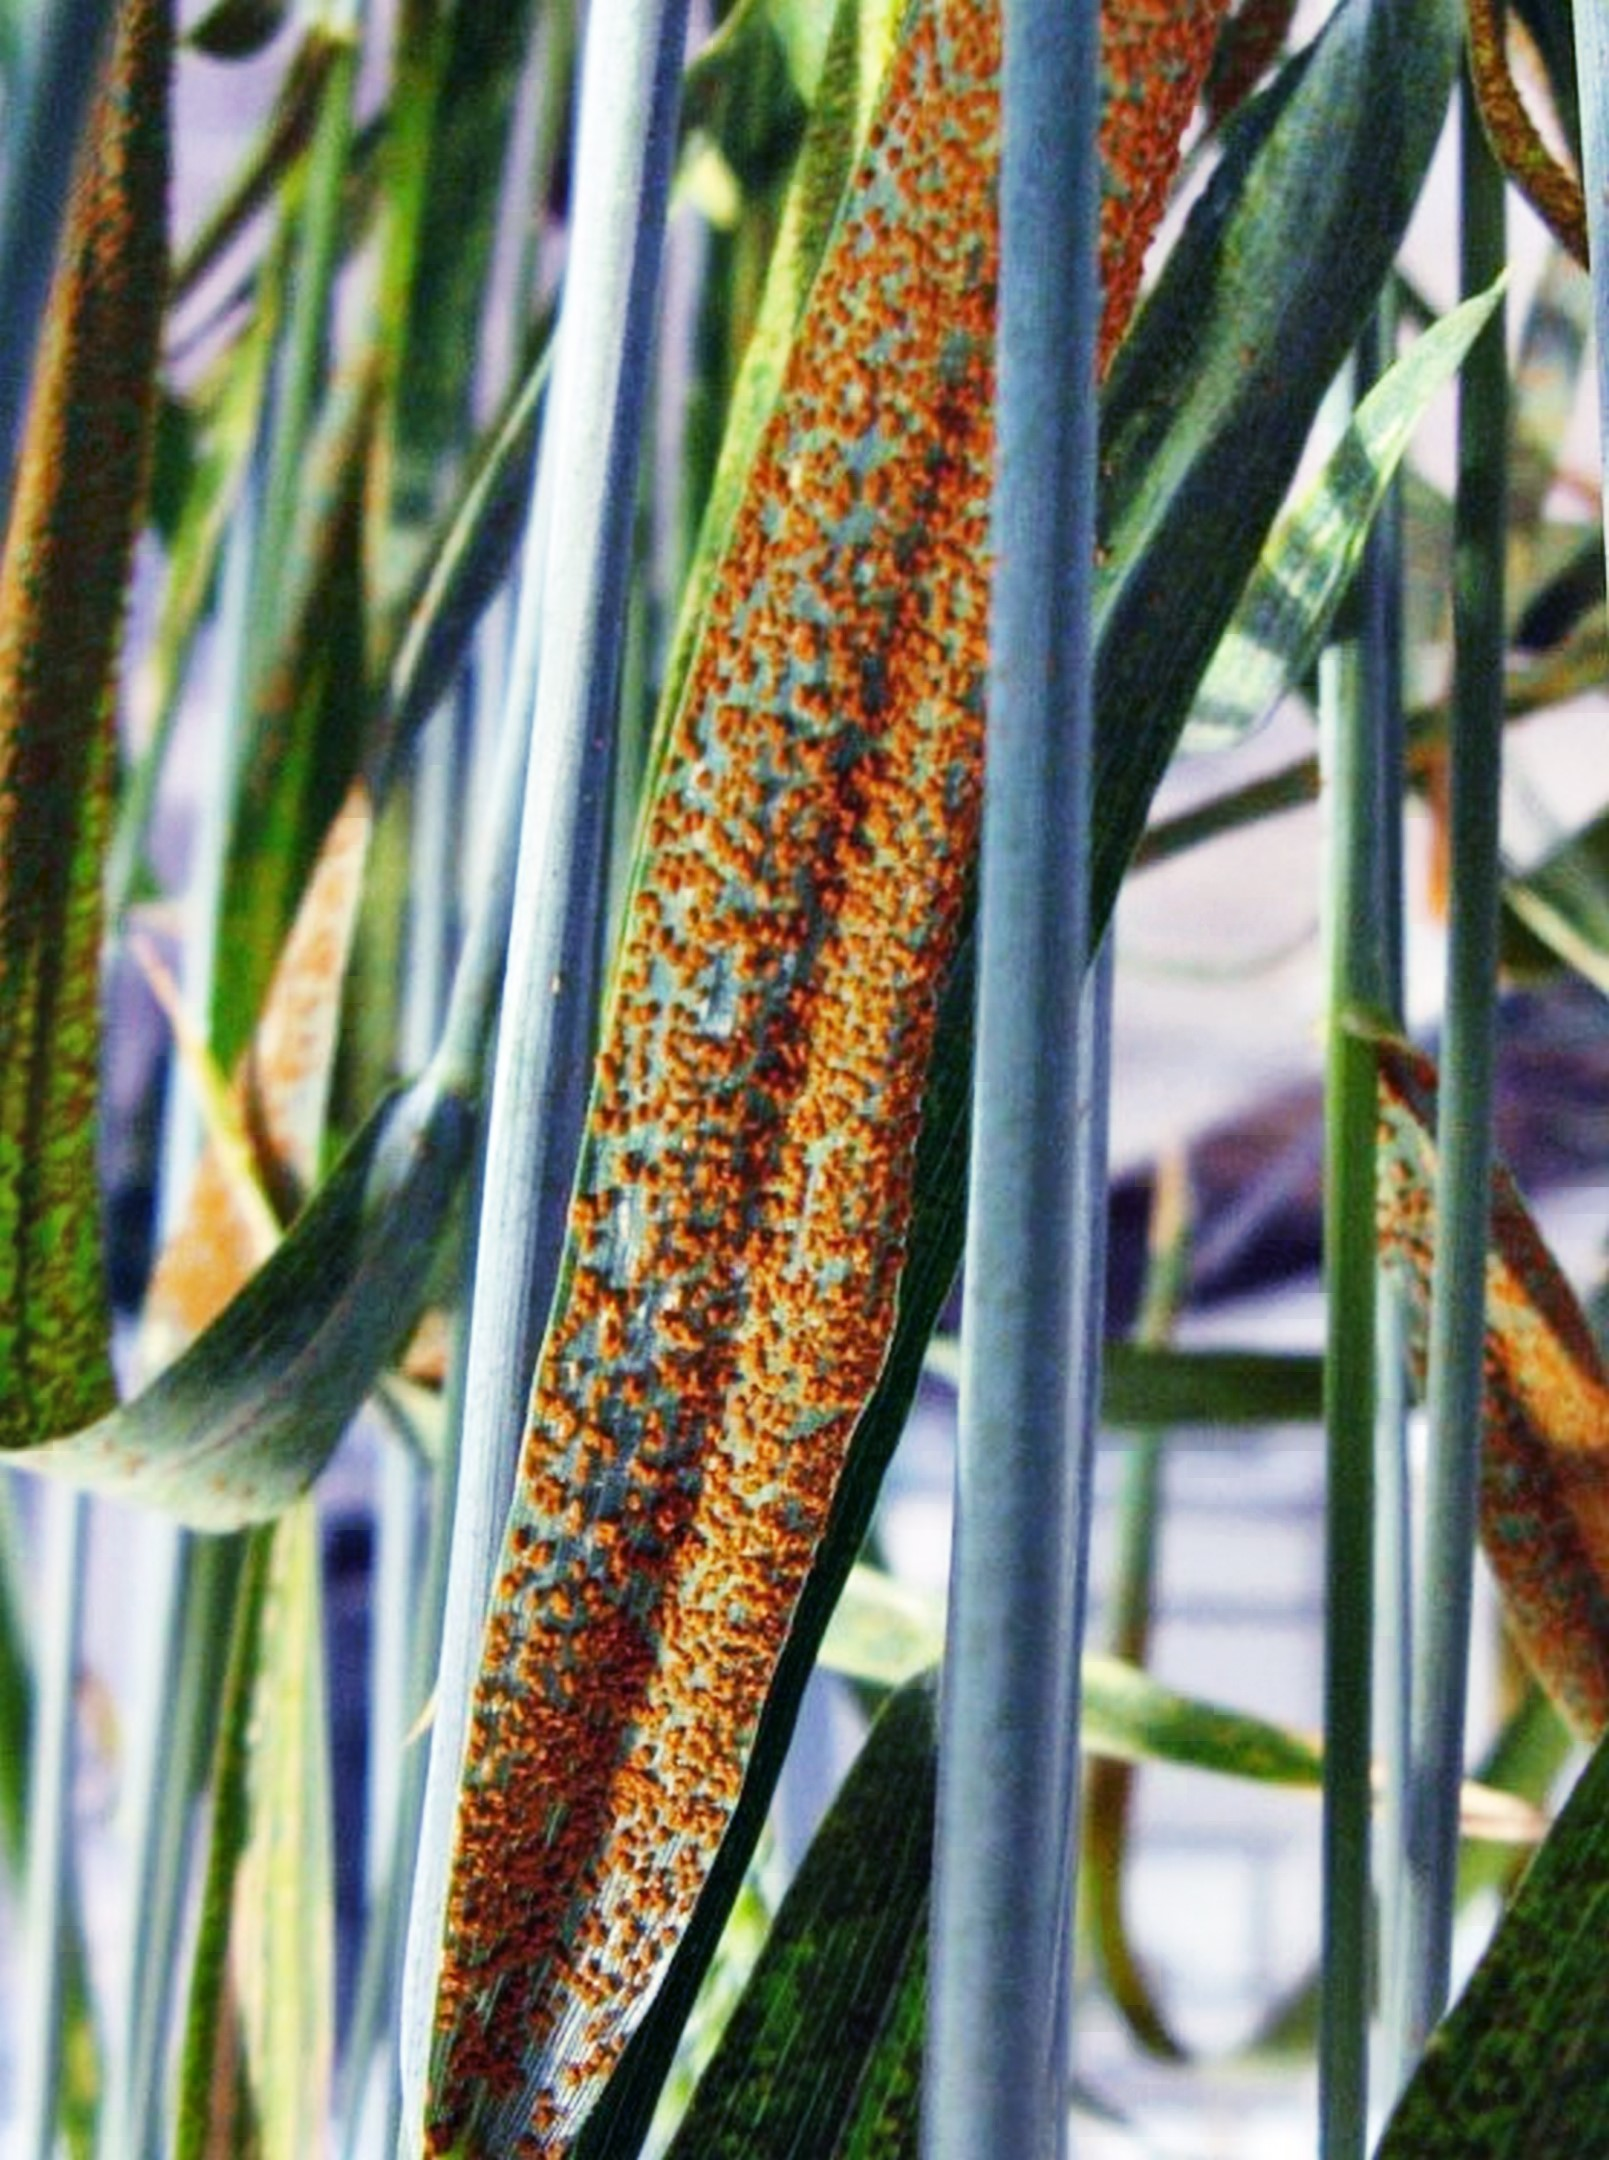Leaf Rust: (426, 149, 1083, 2042)
